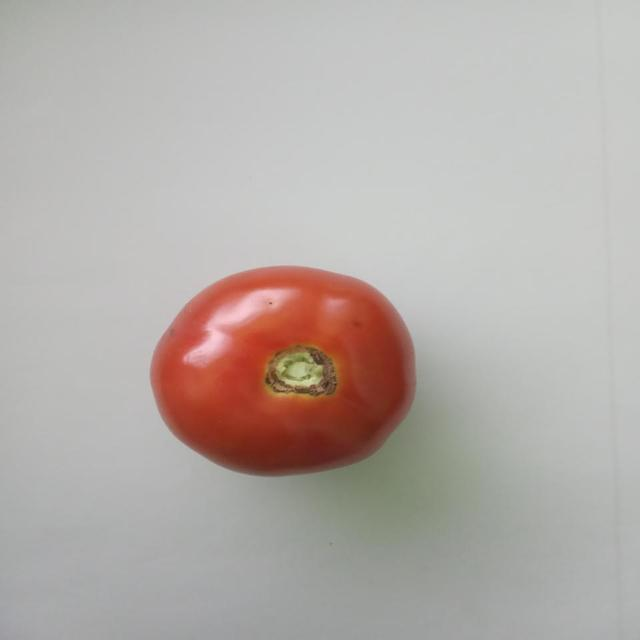Healthy Fruit: (89, 171, 285, 324)
